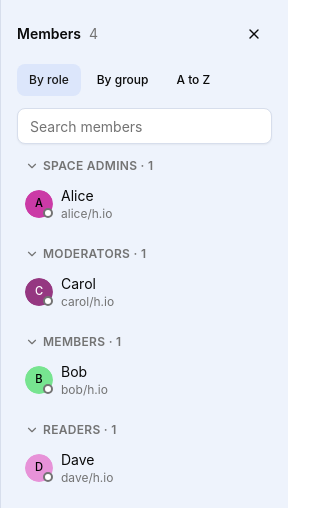
MembersPanel, inline from lg › collapses and expands a section, keeping it open while searching
Check: the text "Alice" is shown, box [61,187,94,204]
Click the button "Space admins · 1" at (144, 166), box [17,156,272,176]
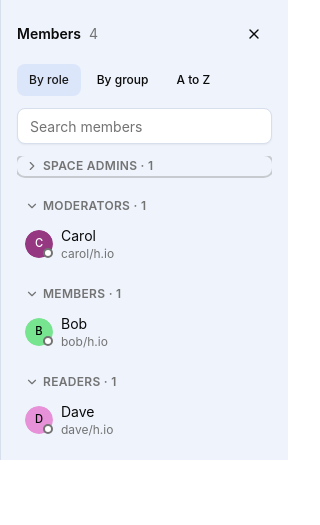
Check: the text "Bob" is shown, box [61,315,87,332]
Check: the button "Space admins · 1" is collapsed, box [17,156,272,176]
Check: the button "Alice" is gone
Type "ali" into the search field labelled "Search members" at (144, 126), box [17,108,272,144]
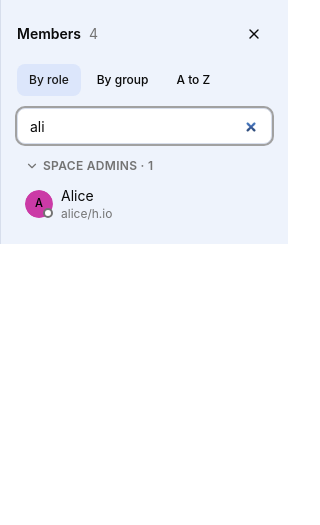
Check: the text "Alice" is shown, box [61,187,94,204]
Clear the search field at (144, 126), box [17,108,272,144]
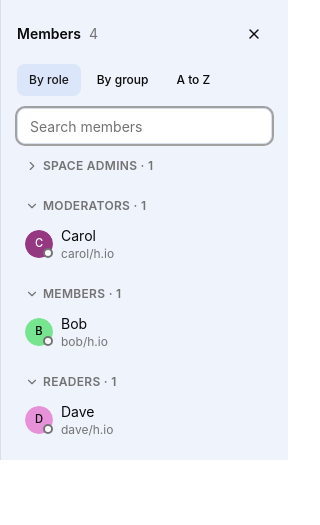
Check: the button "Alice" is gone
Click the button "Space admins · 1" at (144, 166), box [17,156,272,176]
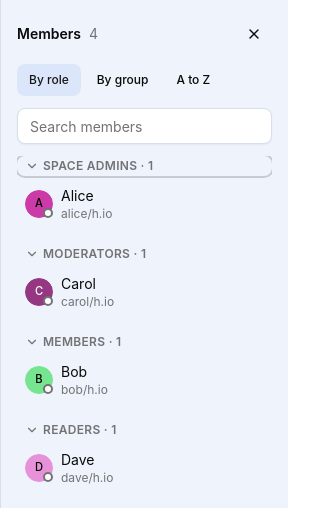
Check: the text "Alice" is shown, box [61,187,94,204]
